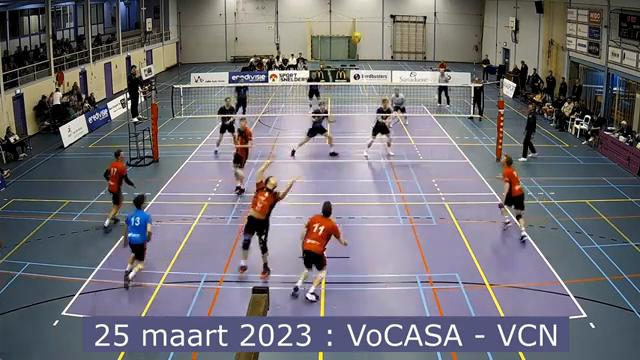alzata: (240, 157, 299, 282)
